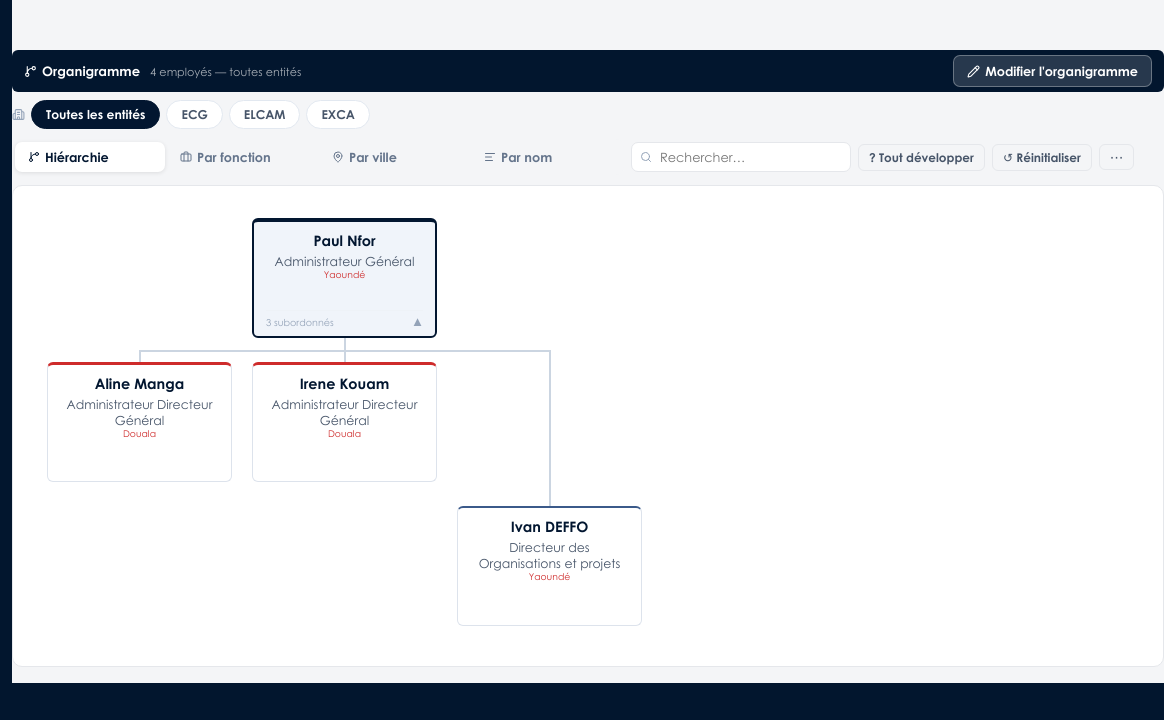
Test: OrgChart — PCA injection filiales › filtre EXCA : Paul Nfor apparaît avec le titre PCA
Click the button "EXCA": {"x": 338, "y": 114} 306,100 -> 370,129
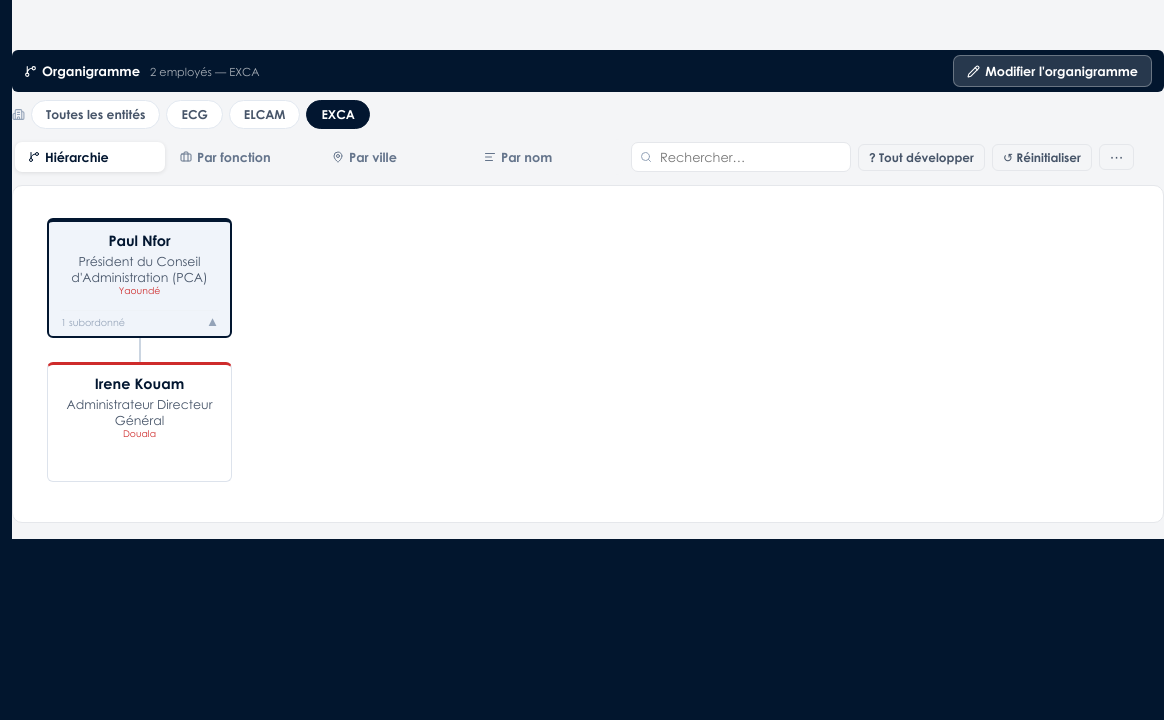
Expected: the text "Paul Nfor" is shown, 108,232 -> 171,249
Expected: the text "Président du Conseil d'Administration (PCA)" is shown, 61,253 -> 218,285
